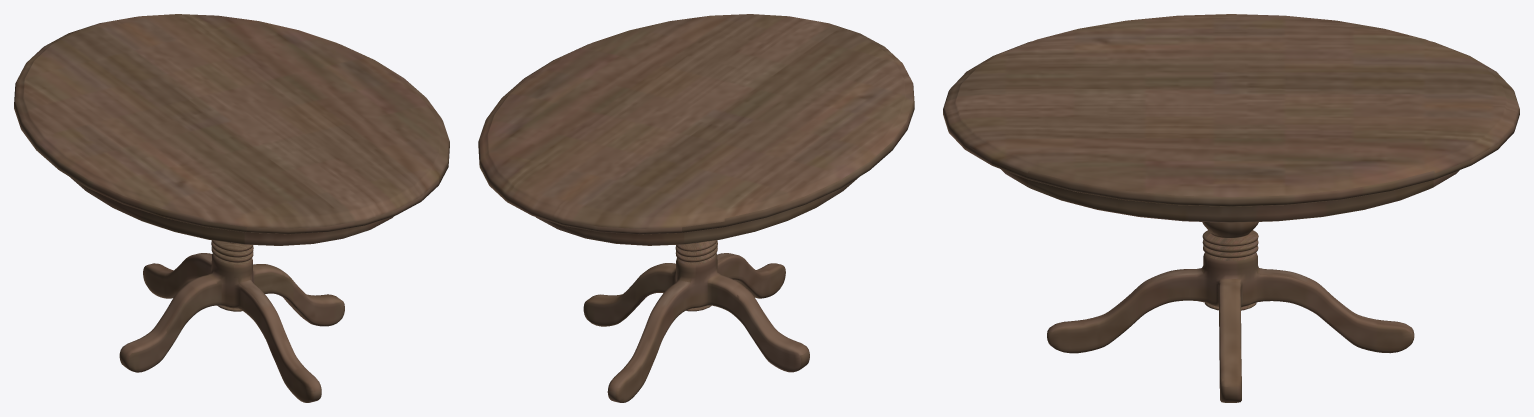
The model's file is TableV2.fbx.
3 views of the same model, side by side, from view 1: azimuth 30°, elevation 25°; view 2: azimuth 150°, elevation 25°; view 3: azimuth 270°, elevation 25° (orthographic). The views are drawn at different scales.
Parts seen in each view (by area): view 1: pasted__table4; view 2: pasted__table4; view 3: pasted__table4.
Boxes of the visible parts, box(x1,y1,x2,y2) form: pasted__table4: box(14, 14, 449, 402); pasted__table4: box(478, 14, 914, 402); pasted__table4: box(943, 14, 1519, 402).
Size of the model in its own units: 122 by 78.73 by 163.
